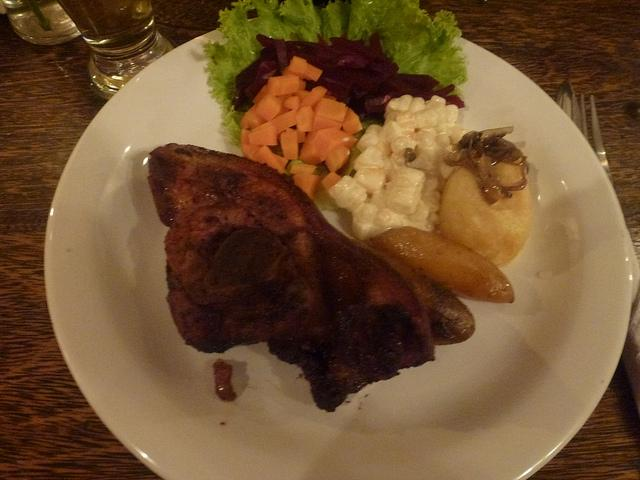carrot: (250, 110, 296, 135), (317, 127, 358, 153), (251, 144, 286, 174), (300, 132, 332, 164), (314, 98, 348, 122), (255, 92, 282, 122), (297, 86, 328, 112), (240, 128, 263, 162), (267, 74, 299, 96), (324, 146, 350, 173), (292, 173, 320, 198), (308, 116, 342, 134), (248, 126, 278, 146), (280, 128, 298, 160), (294, 106, 315, 133), (342, 108, 363, 134), (302, 62, 324, 82), (321, 172, 342, 192), (245, 112, 268, 130), (288, 55, 308, 74), (253, 85, 269, 106), (289, 164, 318, 175), (284, 96, 301, 112), (274, 154, 288, 168), (295, 128, 307, 143), (296, 90, 310, 102), (323, 94, 337, 101)
lettuce: (204, 0, 467, 146)
potato: (356, 240, 476, 347), (370, 226, 515, 304), (440, 163, 530, 267), (327, 175, 368, 213)
